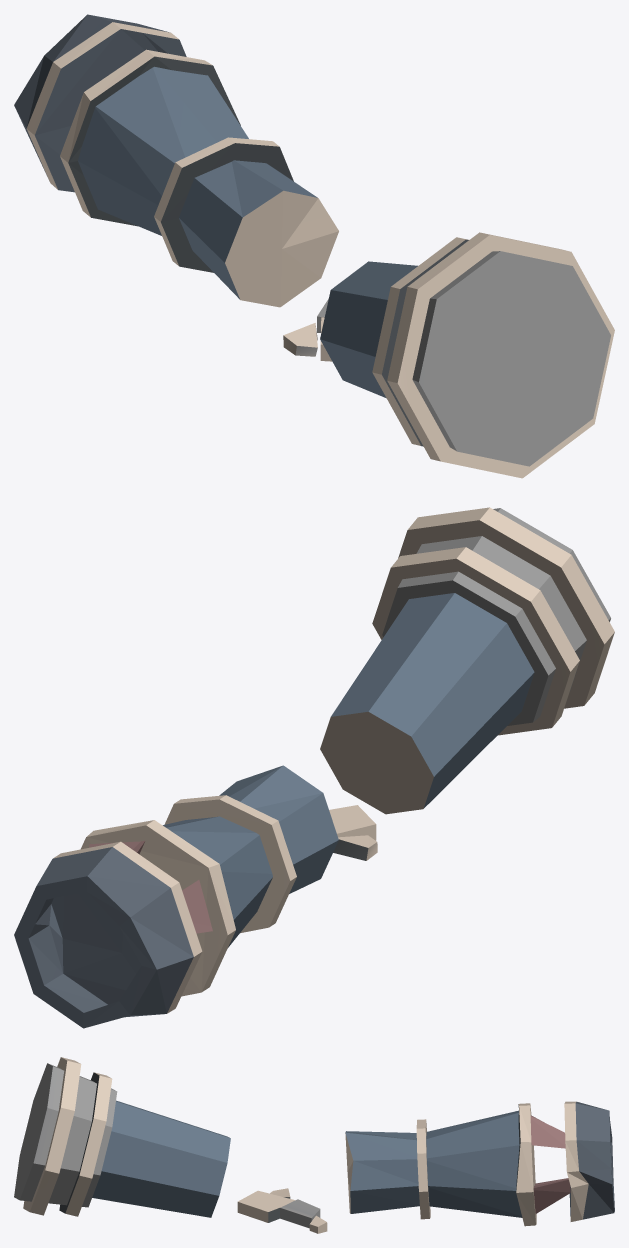
The model's file is Pillarbroken.FBX.
3 views of the same model, one above another, from view 1: azimuth 30°, elevation 25°; view 2: azimuth 150°, elevation 25°; view 3: azimuth 270°, elevation 25° (orthographic). The views are drawn at different scales.
Parts seen in each view (by area): view 1: Box035; view 2: Box035; view 3: Box035.
Boxes of the visible parts, x1,y1,x2,y2 form: Box035: (14, 14, 614, 478); Box035: (14, 507, 614, 1028); Box035: (14, 1057, 614, 1233).
Bounding box in the file's own units: 32.58 × 34.74 × 116.
